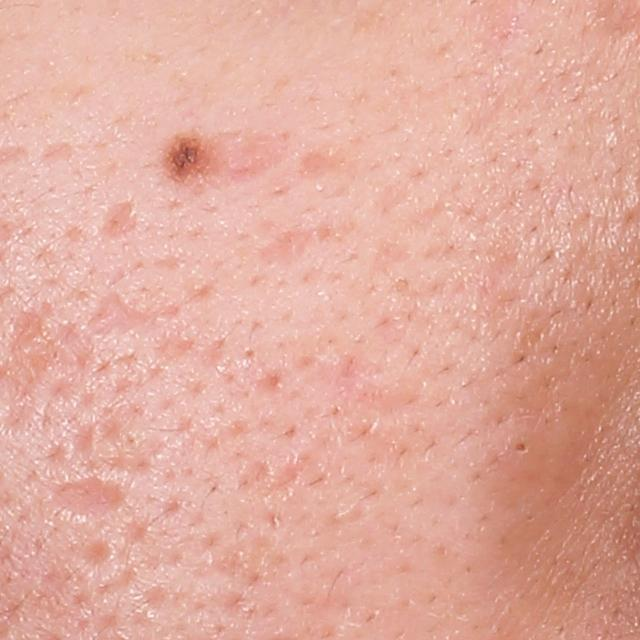atrophic_scar: (211, 126, 303, 186), (255, 220, 342, 266), (80, 286, 149, 342), (51, 476, 127, 520), (93, 196, 146, 246), (299, 154, 348, 180), (80, 536, 115, 568), (39, 137, 78, 164), (71, 421, 93, 459)
comedo: (506, 437, 526, 457)
nevus: (162, 133, 209, 191)
